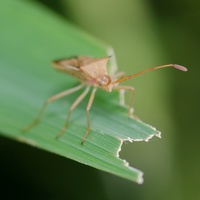insect: (21, 55, 187, 144)
